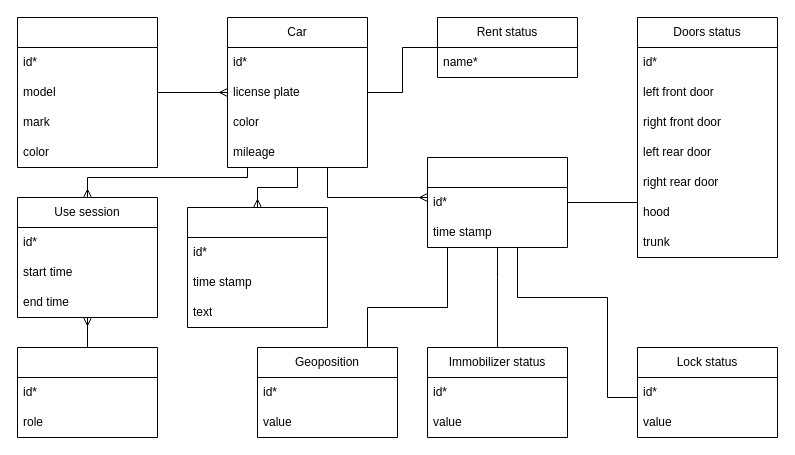
This 795x455 diagram has some shape labels left out. Here are the shapes that lost their labels. From the top down, the box of each, then its label:
(16, 16, 158, 168): Car mark
(426, 156, 568, 248): Telematics
(186, 206, 328, 328): Comment
(16, 346, 158, 438): User
